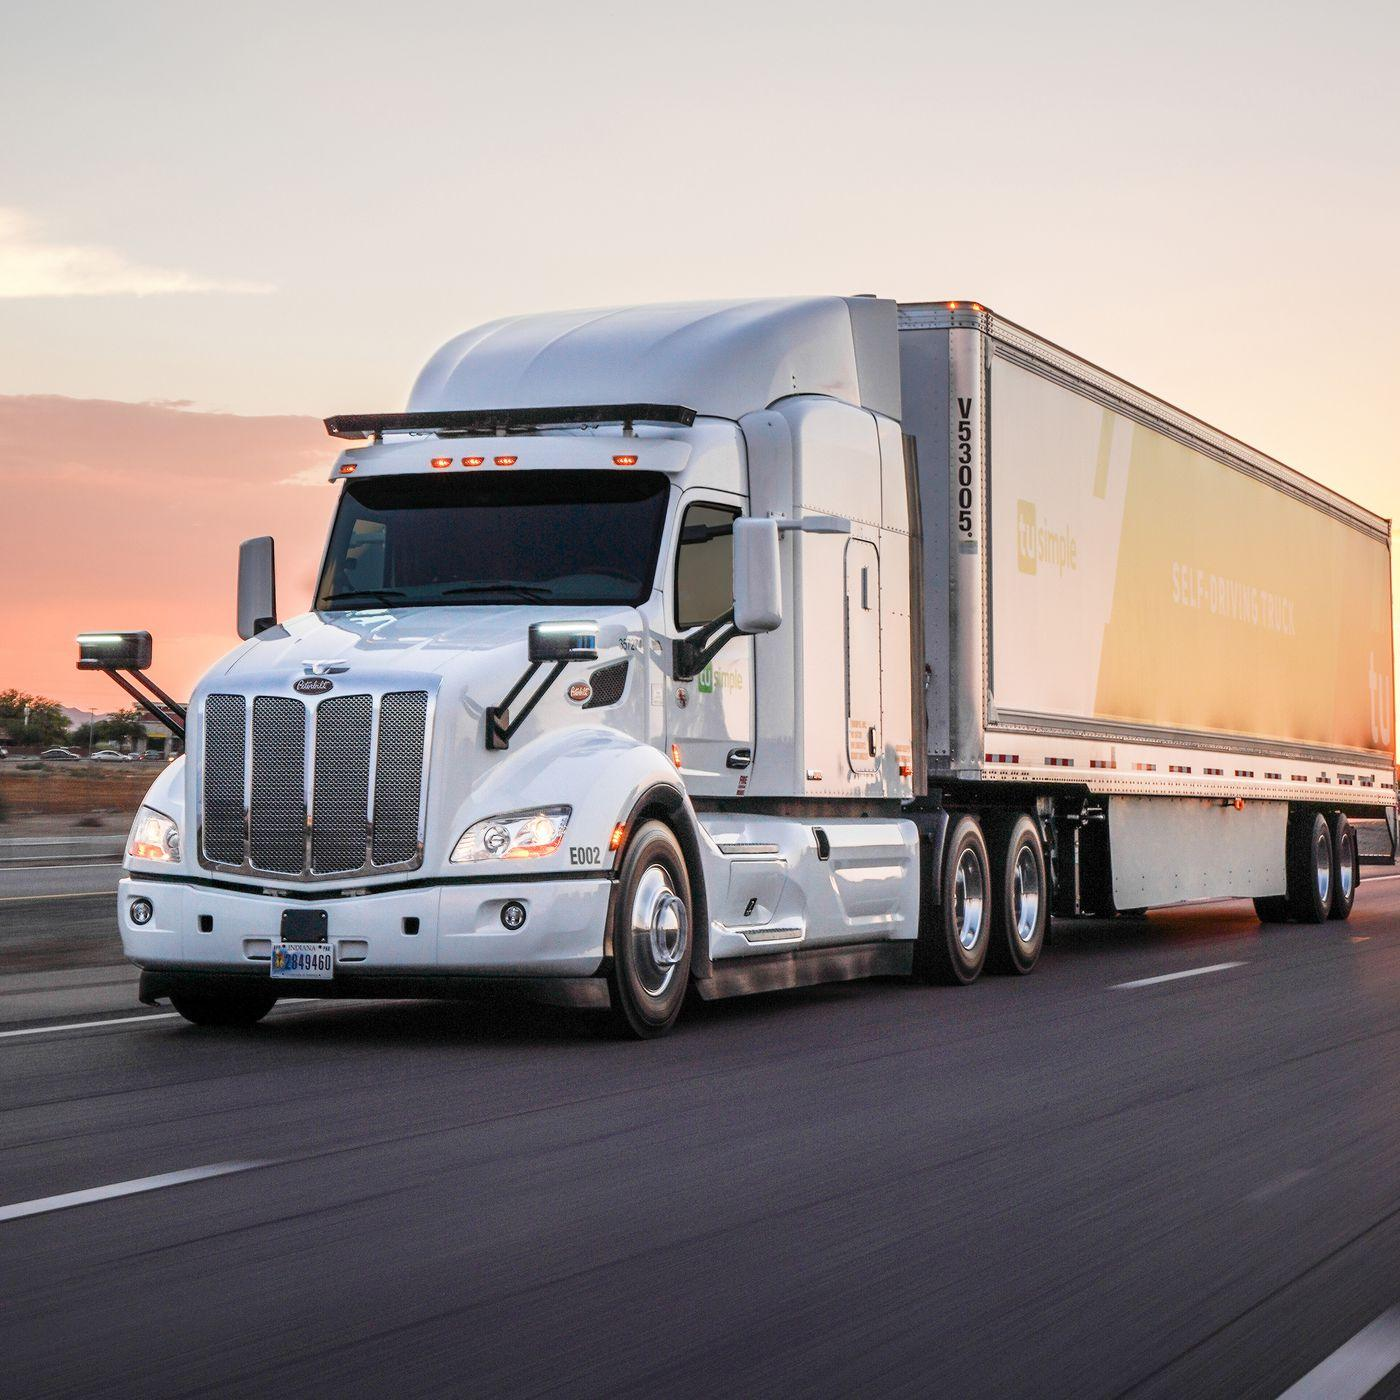truck: (114, 291, 1400, 1036)
